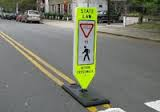yield_sign: (74, 6, 97, 92)
